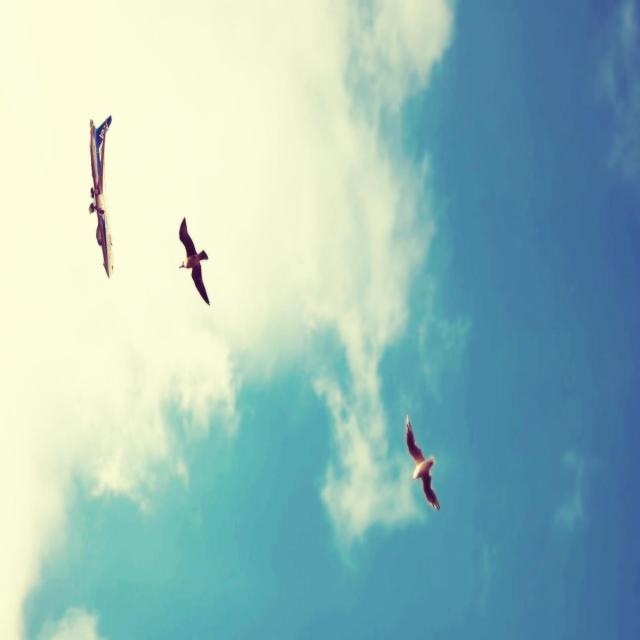airplane: (88, 114, 114, 278)
